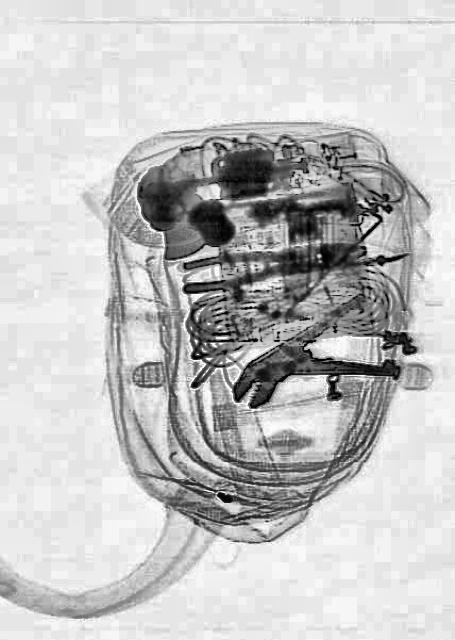Pliers: (221, 284, 399, 448), (180, 230, 368, 294)
